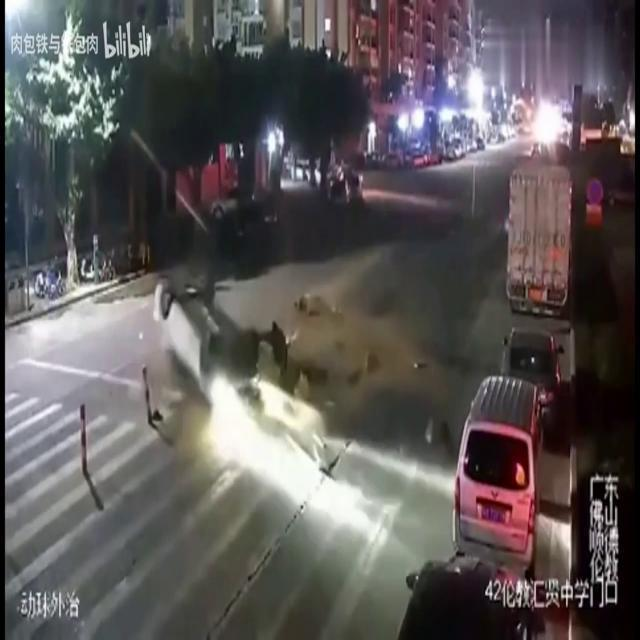accident: (137, 268, 446, 478)
non-accident: (452, 329, 566, 589)
